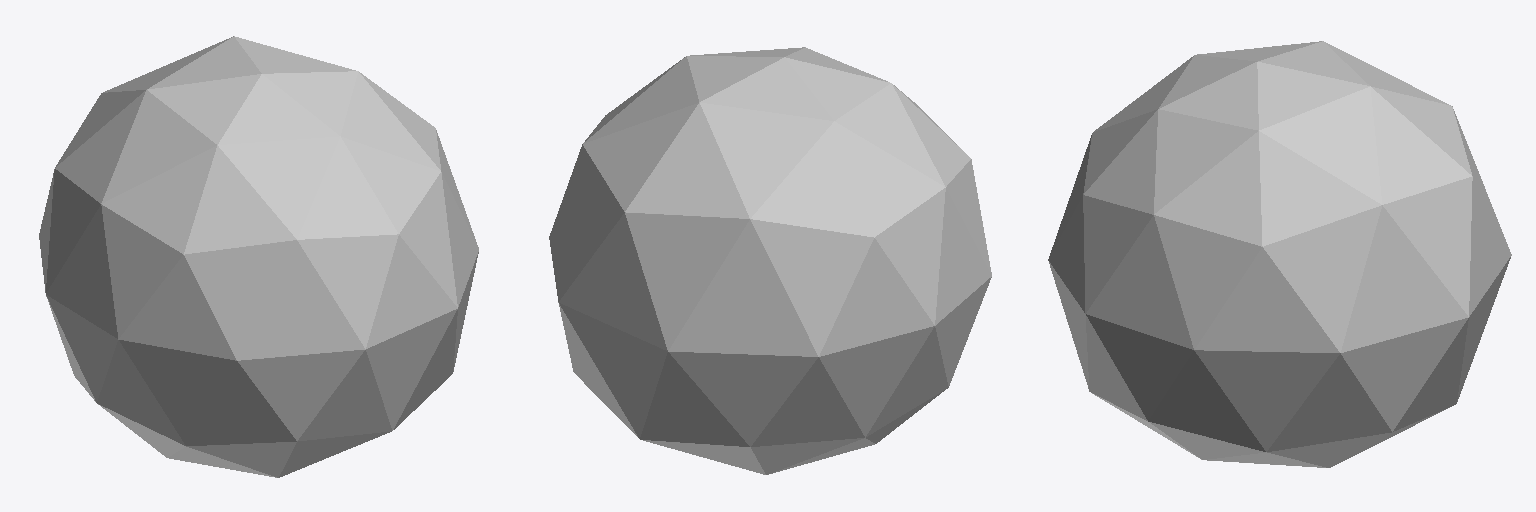
Rendered from Bush_5.obj.
3 views of the same model, side by side, from view 1: azimuth 30°, elevation 25°; view 2: azimuth 150°, elevation 25°; view 3: azimuth 270°, elevation 25° (orthographic).
Parts seen in each view (by area): view 1: Icosphere.037_Icosphere.132; view 2: Icosphere.037_Icosphere.132; view 3: Icosphere.037_Icosphere.132.
Part boxes in pixels (bbox=[...]): Icosphere.037_Icosphere.132: bbox=[39, 36, 478, 477]; Icosphere.037_Icosphere.132: bbox=[549, 47, 991, 474]; Icosphere.037_Icosphere.132: bbox=[1048, 41, 1511, 467].
Bounding box in the file's own units: 1.14 × 1.11 × 1.21.